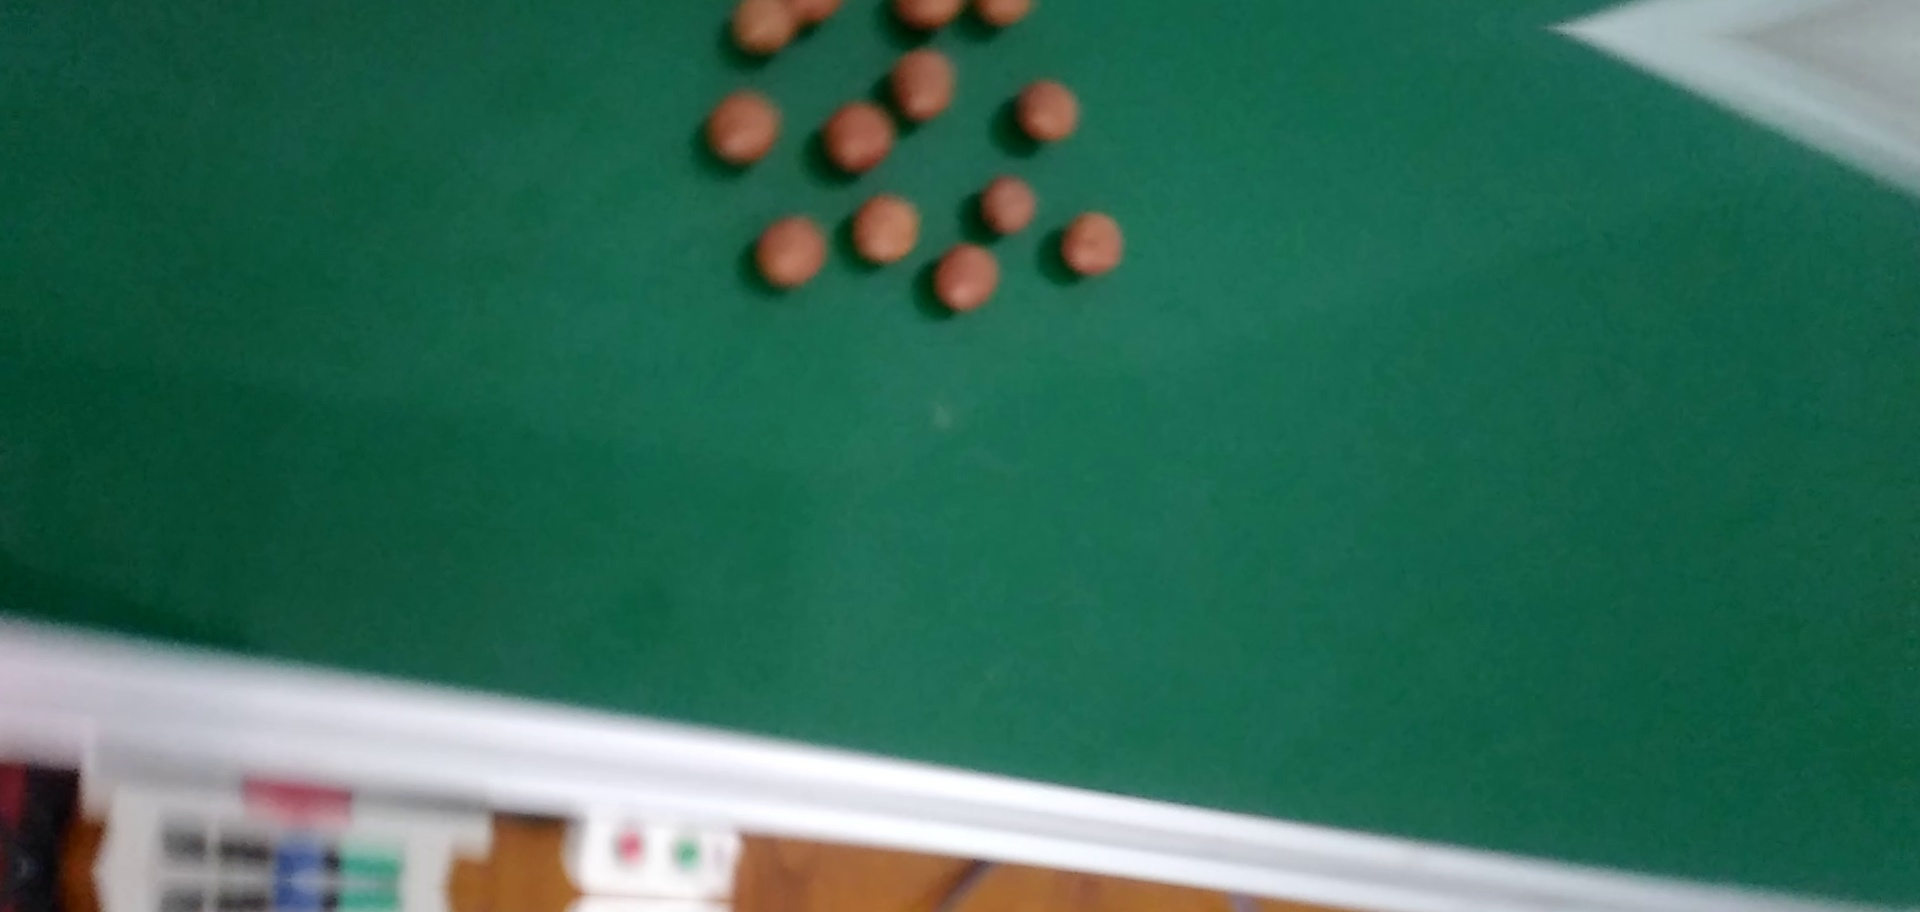mac: (707, 92, 781, 168), (758, 215, 827, 289), (825, 102, 893, 173), (888, 53, 956, 121), (857, 191, 920, 263), (937, 242, 1000, 311), (727, 0, 797, 56), (1064, 209, 1122, 277), (1018, 78, 1078, 137), (982, 178, 1038, 235)
